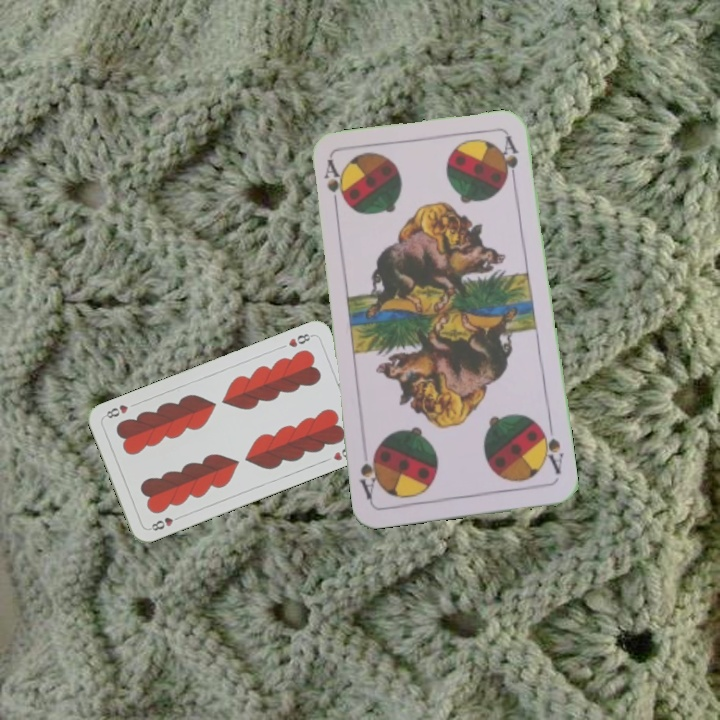H8: (145, 511, 184, 533), (284, 329, 316, 350)
SA: (536, 421, 566, 477), (319, 156, 347, 215)
